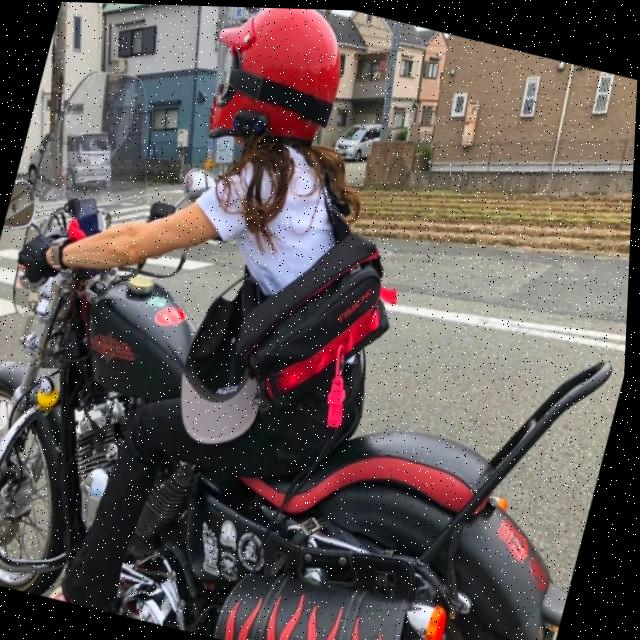helmet: (186, 4, 362, 170)
